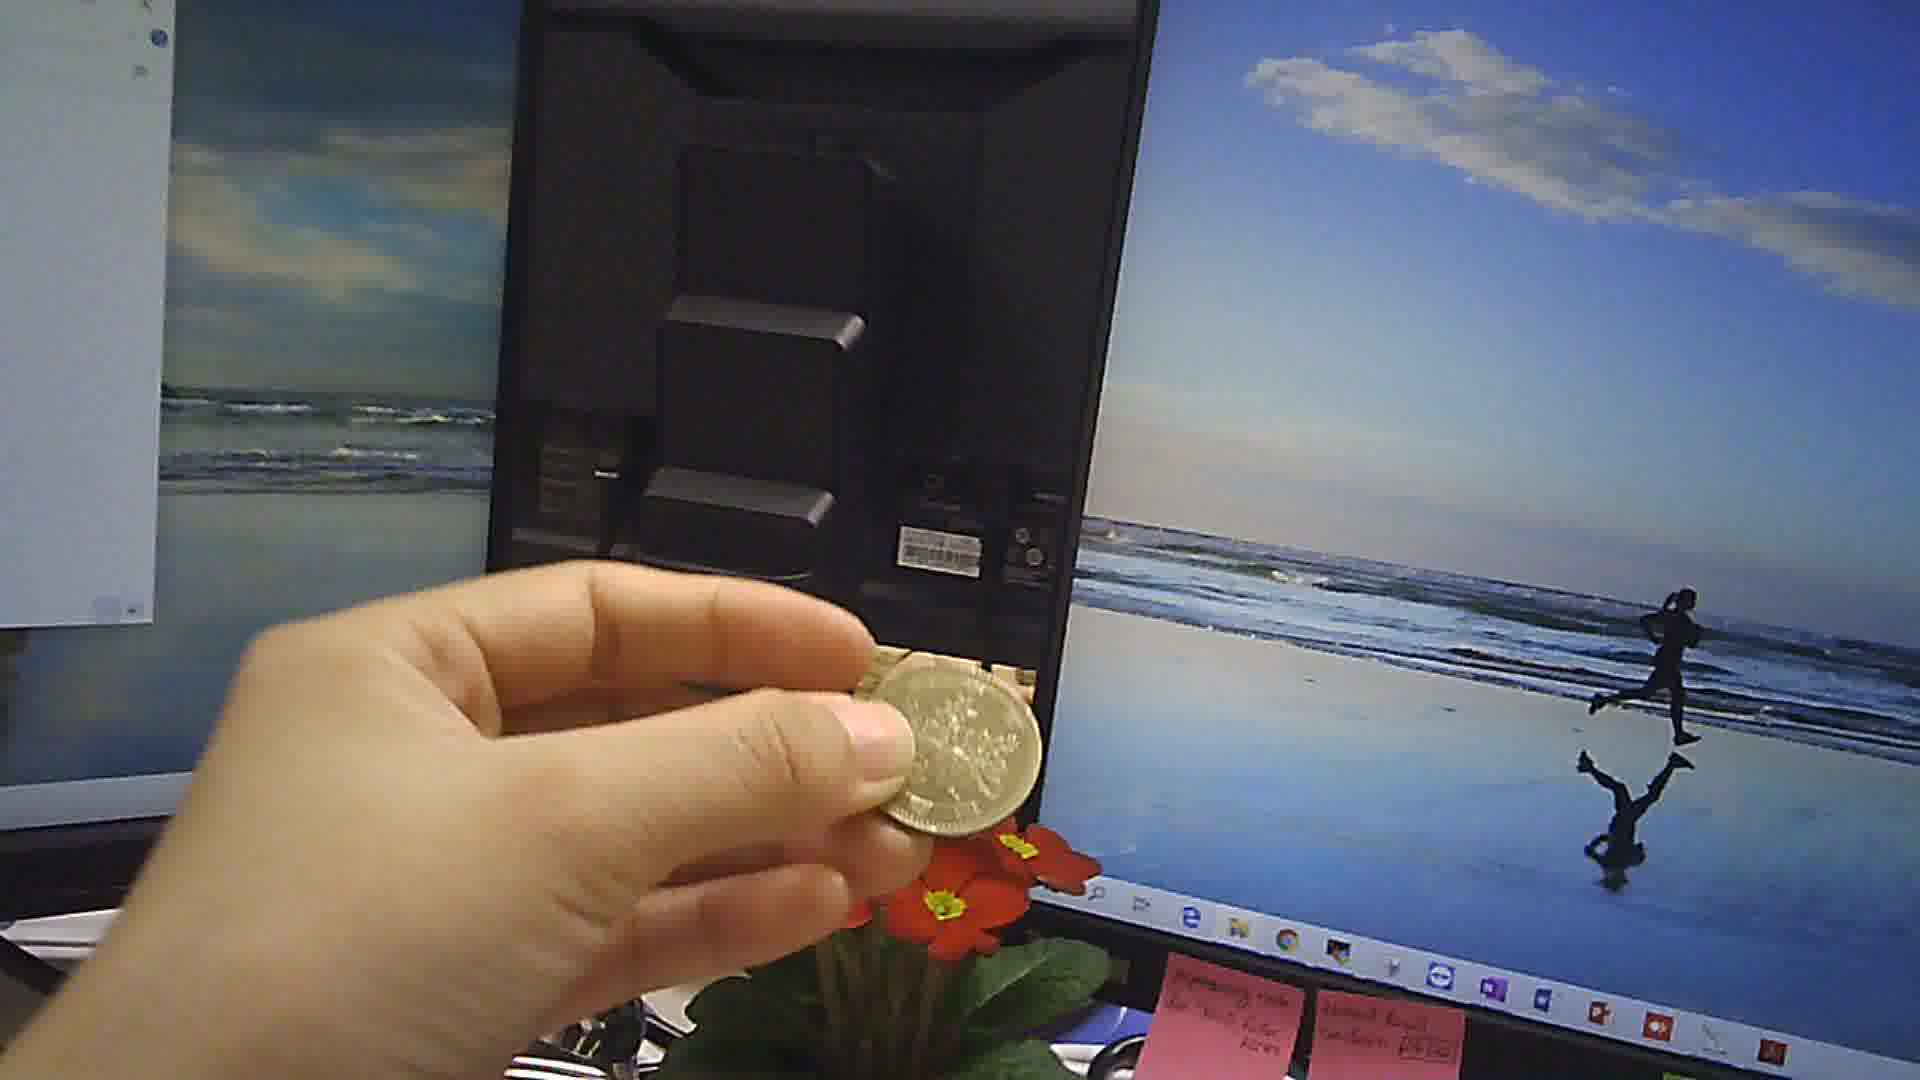500 Yen: (864, 653, 1050, 840)
